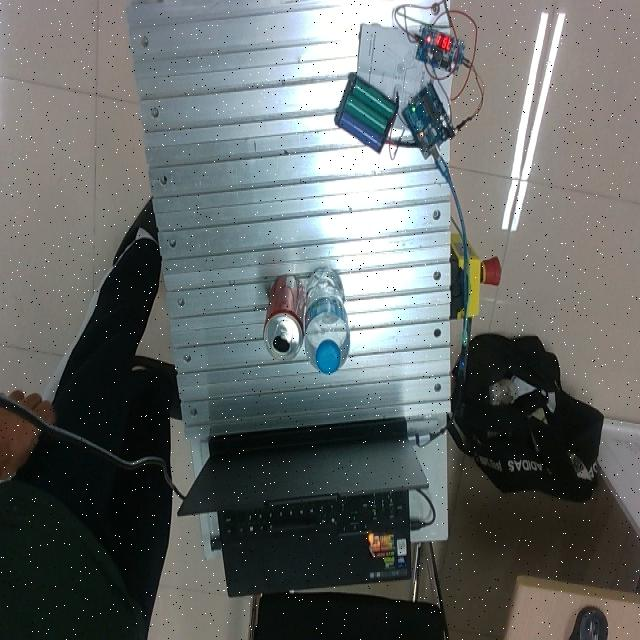coca: (263, 274, 307, 362)
lavie: (303, 267, 351, 376)
